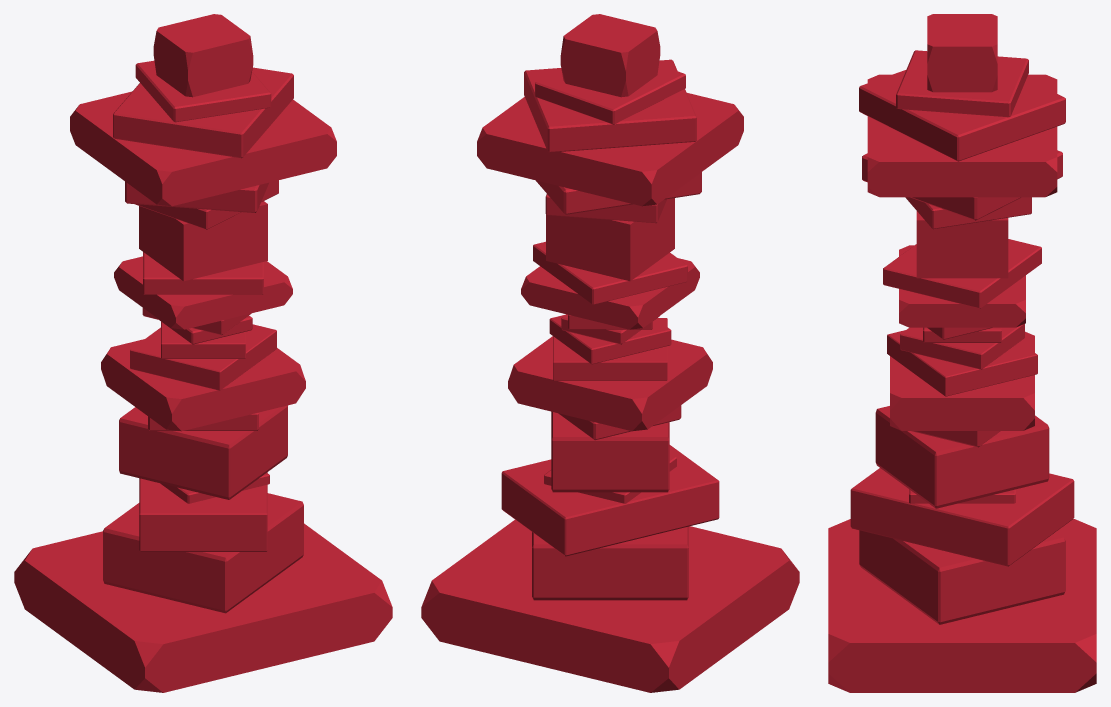
Rendered from KINETIKA_EMPILEMENT_DESTRUCTIBLE_4.FBX.
The picture shows the model from 3 angles, left to right: view 1: azimuth 30°, elevation 25°; view 2: azimuth 150°, elevation 25°; view 3: azimuth 270°, elevation 25°; orthographic projection. The views are drawn at different scales.
Visible parts, largest first — view 1: Empilement4, Box144, Box143, Box141, Box151, Box135, Box152, Box147, Box145, Box148, Box150, Box153 (+7 smaller); view 2: Empilement4, Box144, Box135, Box151, Box143, Box141, Box152, Box147, Box145, Box148, Box153, Box137 (+7 smaller); view 3: Empilement4, Box135, Box143, Box144, Box141, Box152, Box151, Box145, Box147, Box153, Box137, Box148 (+8 smaller).
Boxes of the visible parts, bbox=[...] form: Empilement4: bbox=[14, 523, 392, 692]; Box144: bbox=[70, 91, 336, 206]; Box143: bbox=[103, 493, 303, 613]; Box141: bbox=[119, 405, 287, 499]; Box151: bbox=[101, 339, 305, 431]; Box135: bbox=[139, 472, 267, 551]; Box152: bbox=[113, 67, 293, 158]; Box147: bbox=[139, 201, 267, 281]; Box145: bbox=[153, 14, 253, 97]; Box148: bbox=[114, 256, 292, 329]; Box150: bbox=[130, 324, 276, 390]; Box153: bbox=[135, 60, 271, 122]; Empilement4: bbox=[421, 519, 799, 692]; Box144: bbox=[477, 93, 743, 206]; Box135: bbox=[501, 445, 719, 556]; Box151: bbox=[508, 336, 712, 431]; Box143: bbox=[532, 526, 688, 600]; Box141: bbox=[551, 411, 669, 492]; Box152: bbox=[524, 59, 696, 152]; Box147: bbox=[546, 198, 674, 281]; Box145: bbox=[560, 14, 660, 97]; Box148: bbox=[521, 258, 699, 329]; Box153: bbox=[535, 65, 685, 124]; Box137: bbox=[533, 241, 687, 304]; Empilement4: bbox=[828, 519, 1096, 692]; Box135: bbox=[850, 468, 1074, 566]; Box143: bbox=[859, 530, 1065, 624]; Box144: bbox=[867, 74, 1057, 197]; Box141: bbox=[875, 406, 1049, 508]; Box152: bbox=[859, 70, 1065, 161]; Box151: bbox=[890, 331, 1034, 430]; Box145: bbox=[927, 14, 997, 92]; Box147: bbox=[916, 211, 1008, 278]; Box153: bbox=[896, 50, 1028, 117]; Box137: bbox=[883, 239, 1041, 308]; Box148: bbox=[899, 245, 1025, 327].
Size of the model in its own units: 12.63 by 28.56 by 11.56.
